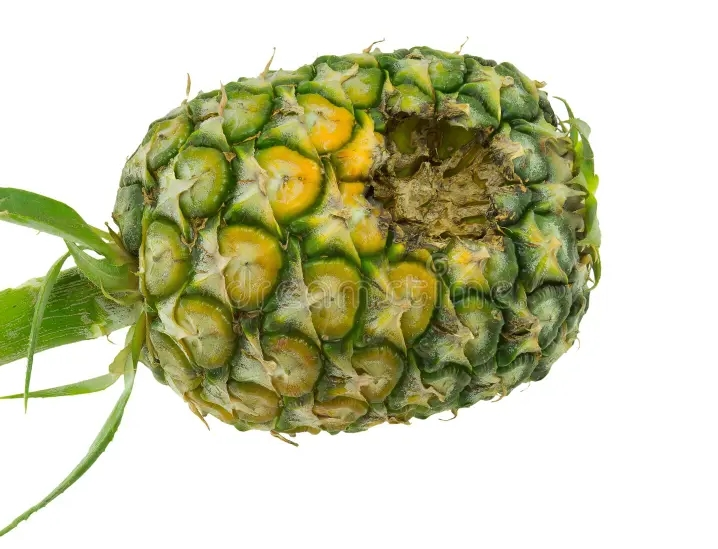rotten pineapple: (103, 100, 610, 412)
